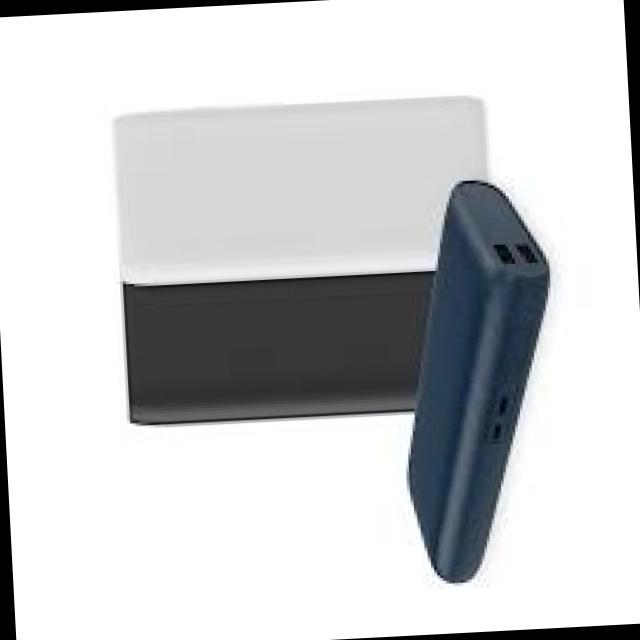power_bank: (110, 87, 500, 285), (387, 171, 566, 591), (120, 270, 458, 428)
